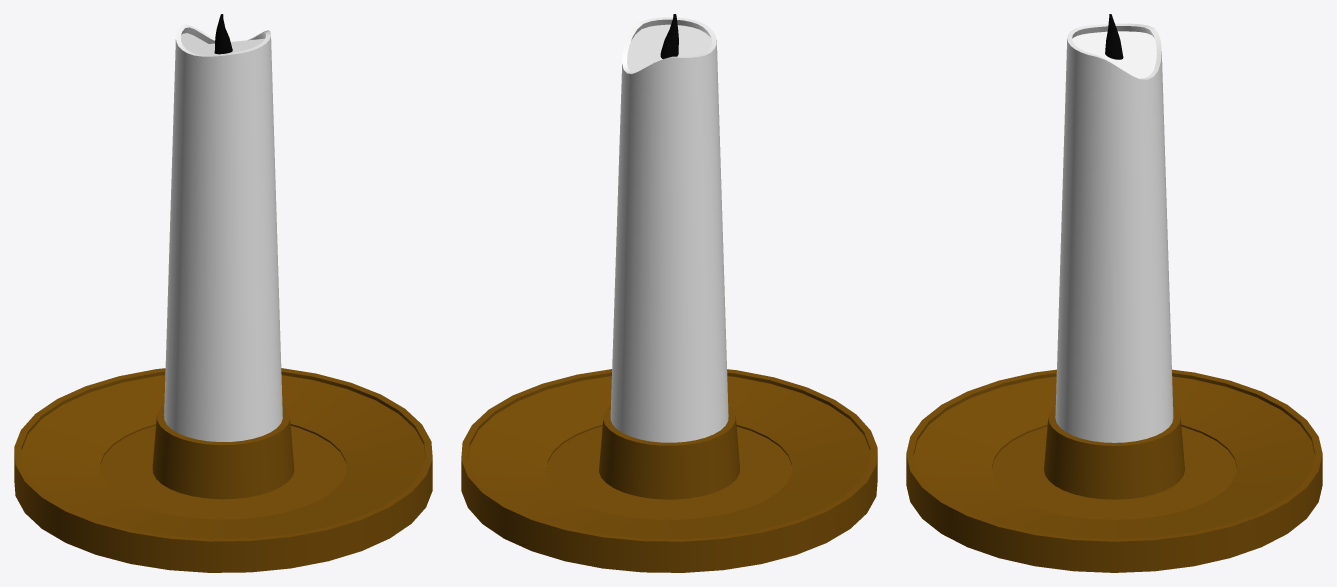
File: Candle.fbx
3 views of the same model, side by side, from view 1: azimuth 30°, elevation 25°; view 2: azimuth 150°, elevation 25°; view 3: azimuth 270°, elevation 25° (orthographic).
Visible parts, largest first — view 1: Cylinder.002; view 2: Cylinder.002; view 3: Cylinder.002.
Part boxes in pixels (bbox=[...]): Cylinder.002: bbox=[14, 14, 432, 572]; Cylinder.002: bbox=[461, 14, 877, 572]; Cylinder.002: bbox=[906, 14, 1322, 572].
Bounding box in the file's own units: 387 × 480 × 387.
